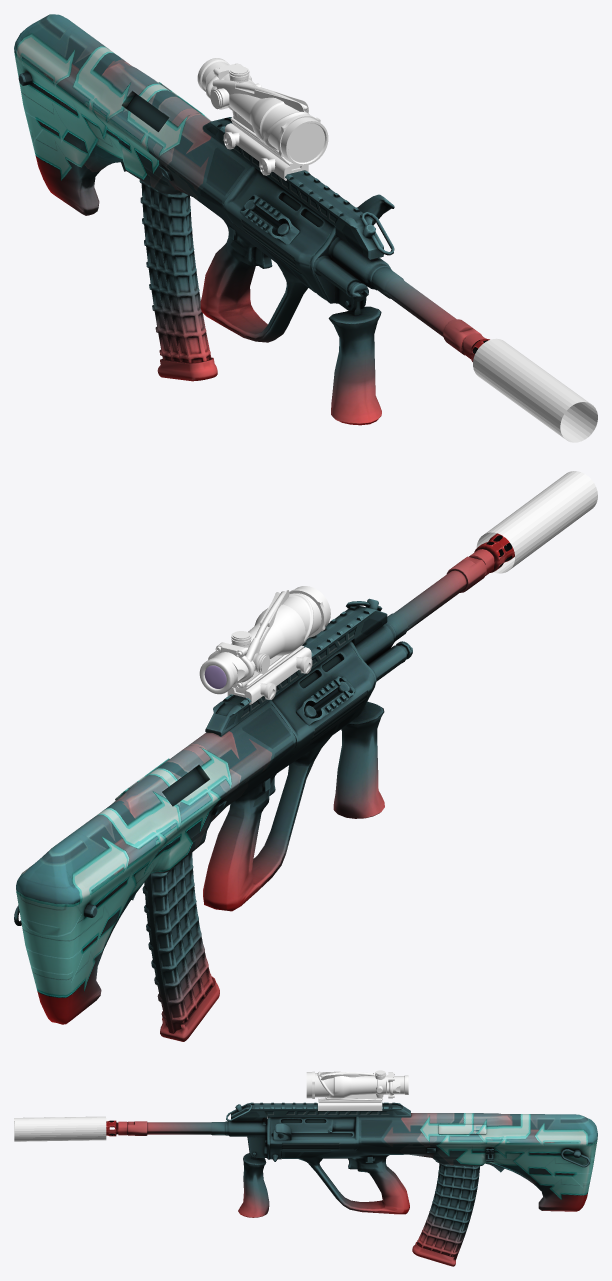
File: Aug_momentum.glb
The picture shows the model from 3 angles, top to bottom: view 1: azimuth 30°, elevation 25°; view 2: azimuth 150°, elevation 25°; view 3: azimuth 270°, elevation 25°; orthographic projection. The views are drawn at different scales.
Visible parts, largest first — view 1: v_rif_aug_aug_model, Cylinder.001; view 2: v_rif_aug_aug_model, Cylinder.001; view 3: v_rif_aug_aug_model, Cylinder.001.
Boxes of the visible parts, x1,y1,x2,y2 form: v_rif_aug_aug_model: [14, 14, 489, 425]; Cylinder.001: [473, 338, 597, 442]; v_rif_aug_aug_model: [14, 533, 514, 1041]; Cylinder.001: [476, 471, 597, 573]; v_rif_aug_aug_model: [106, 1070, 597, 1266]; Cylinder.001: [14, 1116, 106, 1141].
Bounding box in the file's own units: 3.8 × 13.05 × 35.65.
6 materials, 1 textured.
